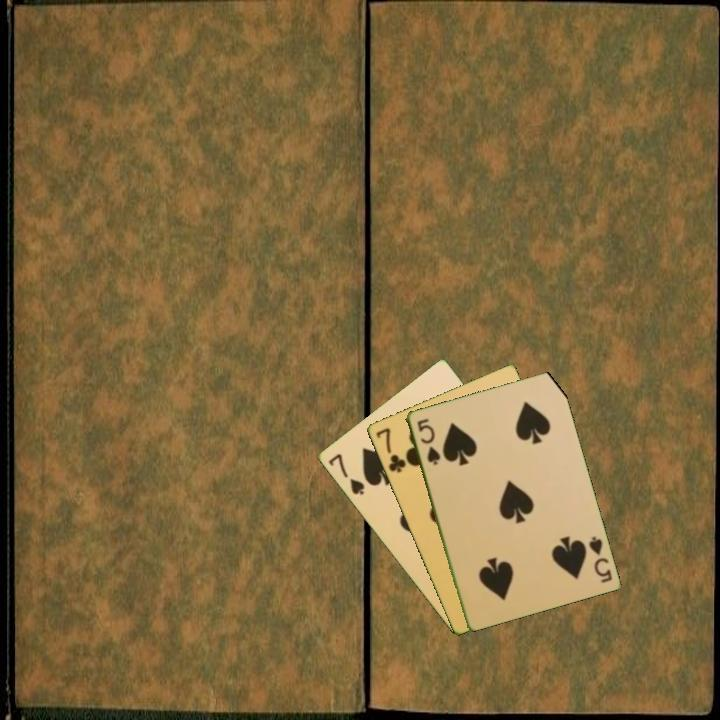5s: (413, 415, 443, 468), (585, 533, 615, 585)
7c: (372, 424, 409, 476)
7s: (324, 450, 367, 498)
